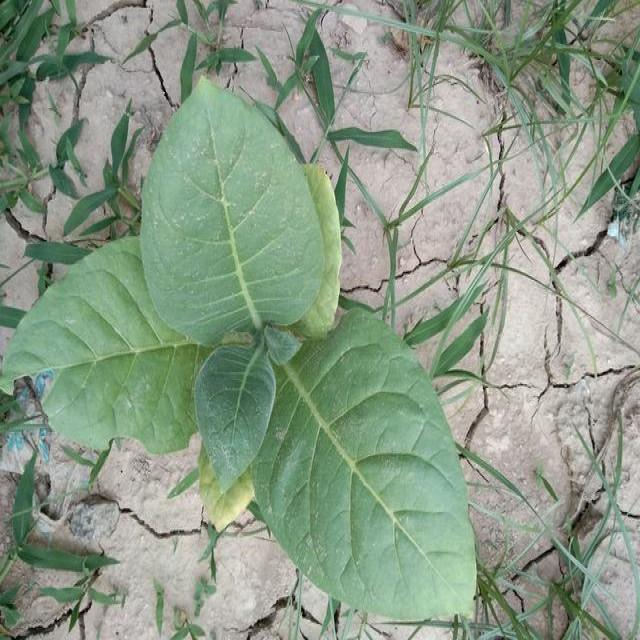crop: (16, 87, 488, 617)
